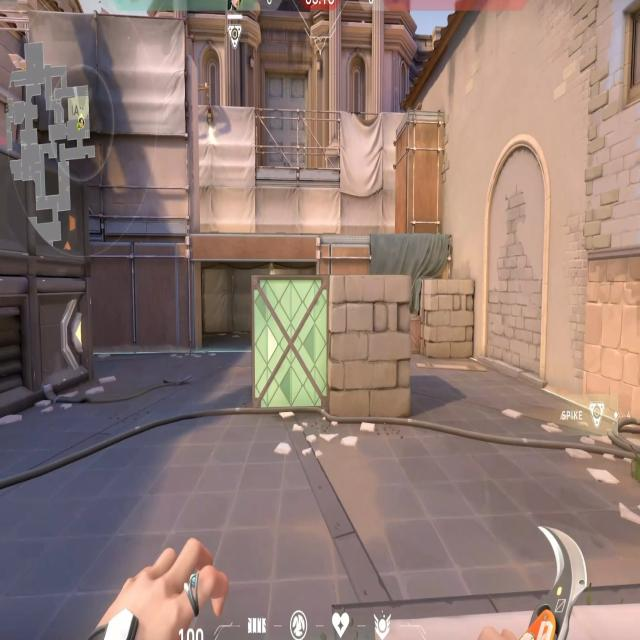A_Heaven_Box: (394, 105, 446, 239)
A_Heaven_Wall: (37, 31, 203, 242)
A_Hell: (172, 246, 342, 372)
A_Site_Box: (252, 273, 416, 416)
